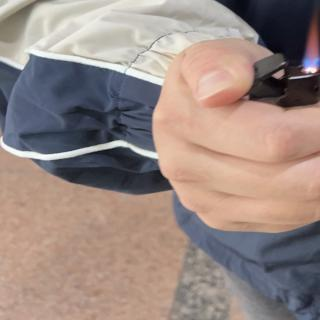fire: (302, 16, 320, 67)
